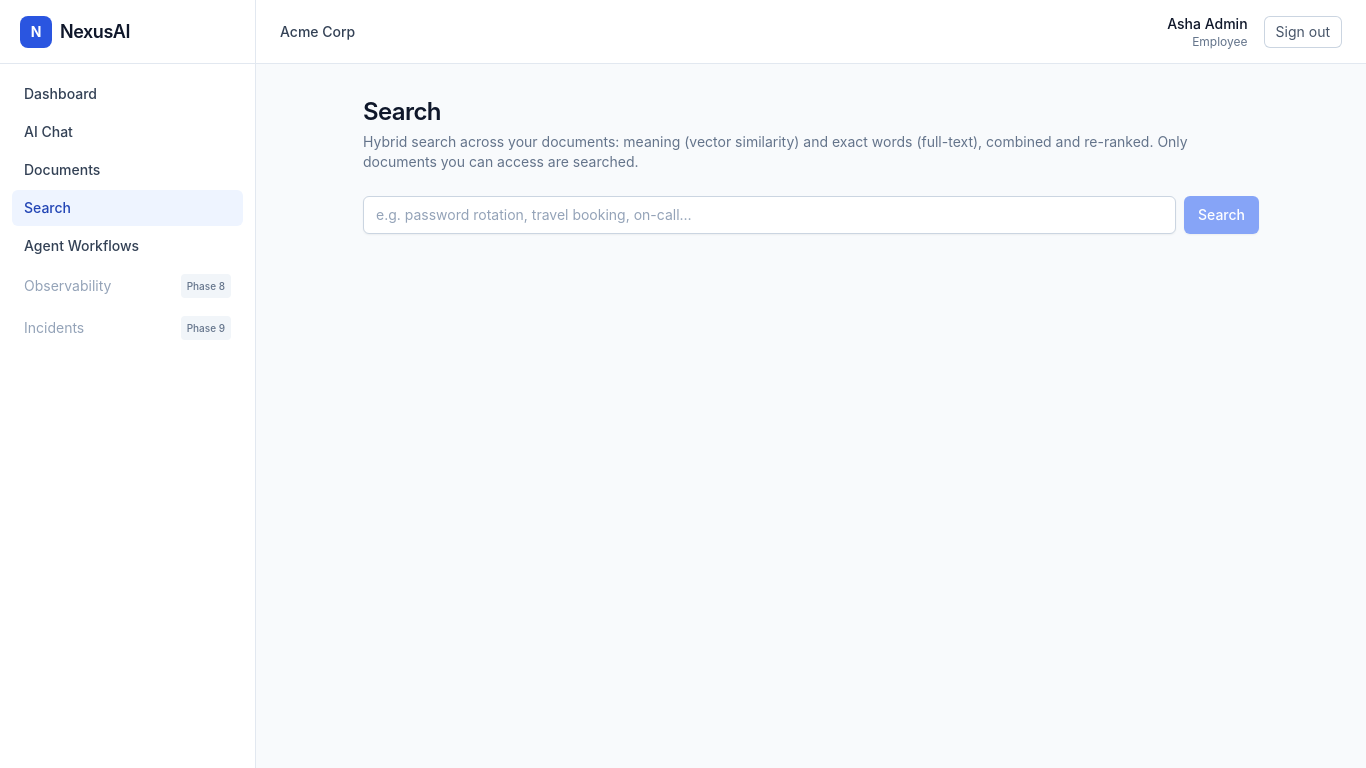
Search › shows ranked passages with highlights and links to the chunk
Type "password rotation" into the search field named "Search query" at coordinates (770, 215), box [363, 196, 1176, 234]
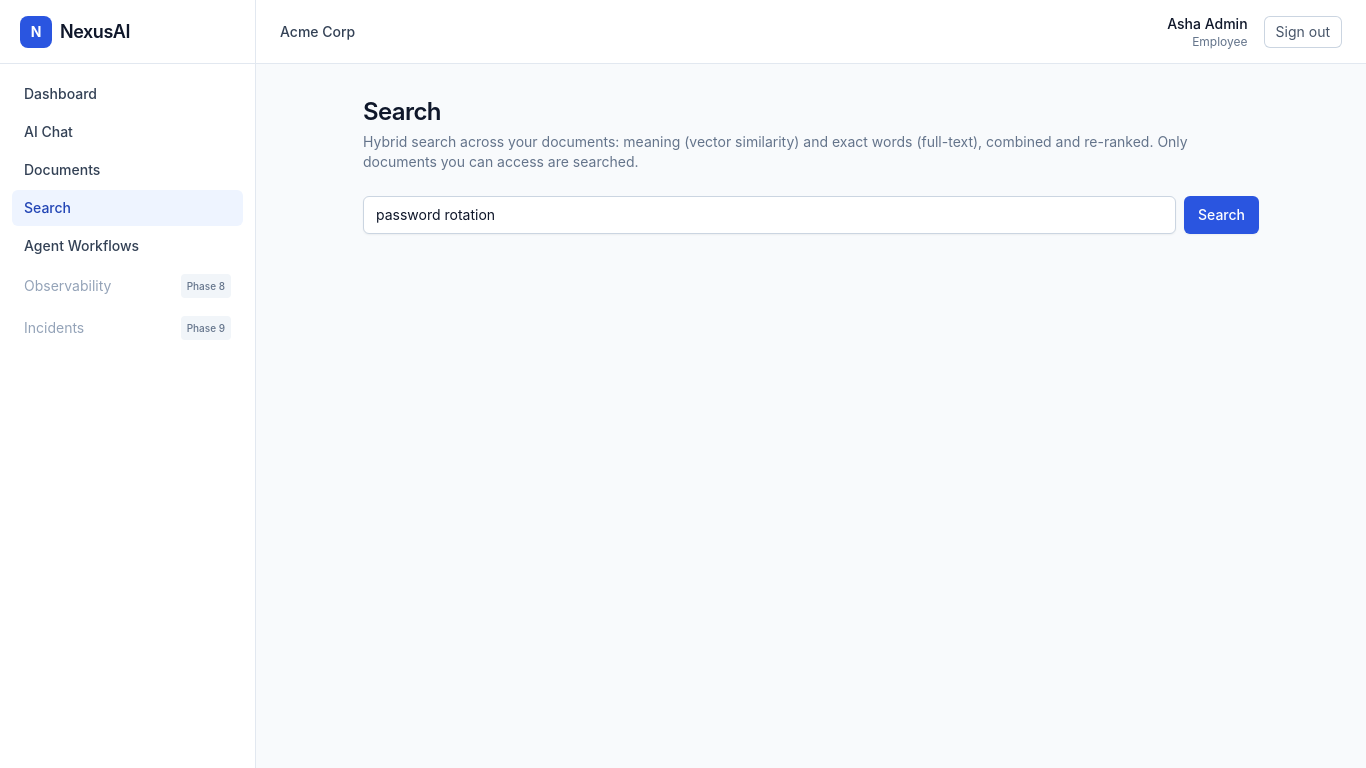
Click the button "Search" at coordinates (1222, 215), box [1184, 196, 1259, 234]
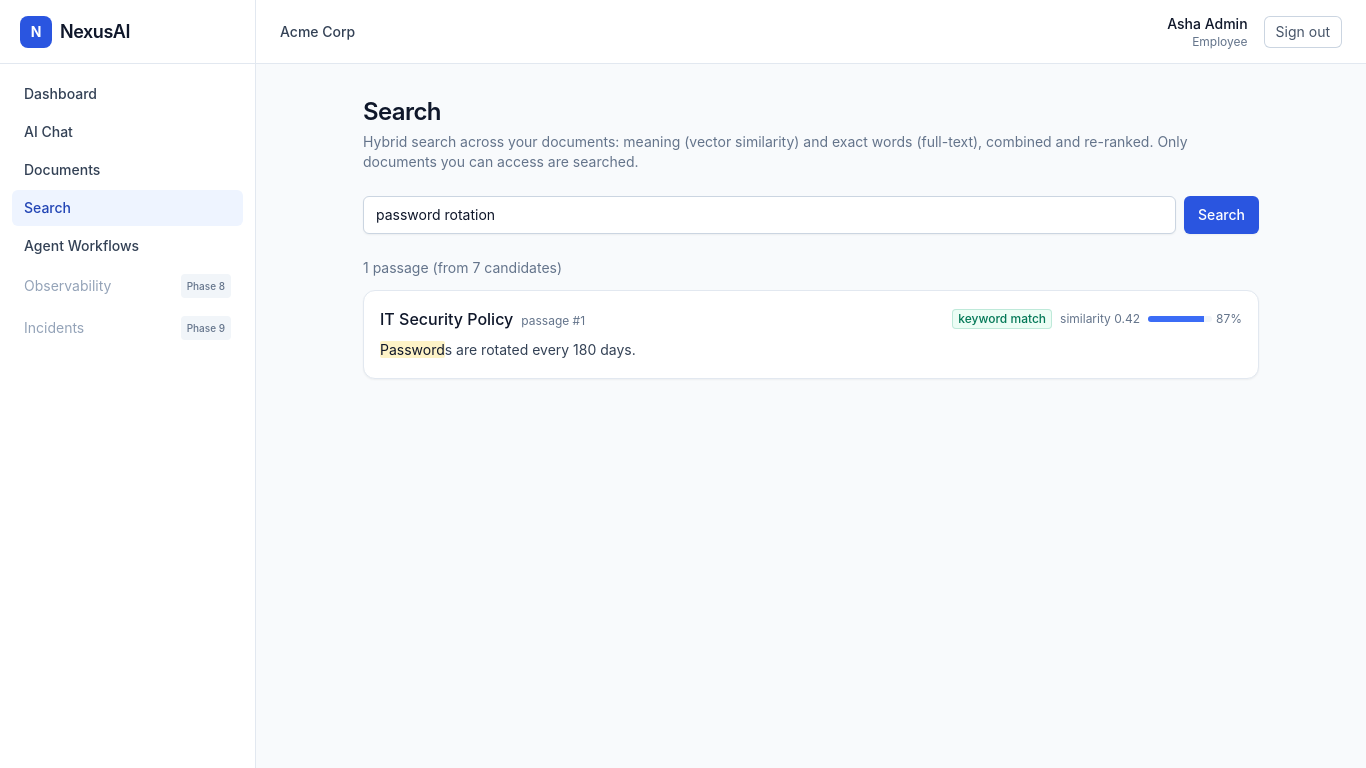
Check: the text "1 passage (from 7 candidates)" is shown, box [363, 259, 562, 276]
Check: the text "keyword match" is shown, box [952, 309, 1052, 329]
Check: the text "87%" is shown, box [1148, 311, 1242, 327]
